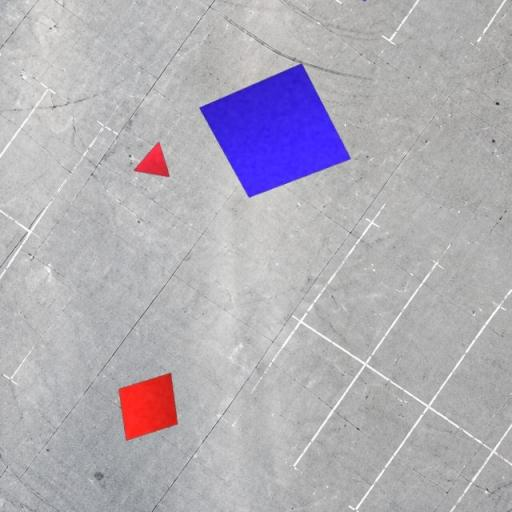BLUE_SQUARE: (198, 62, 352, 198)
RED_SQUARE: (118, 372, 178, 442)
